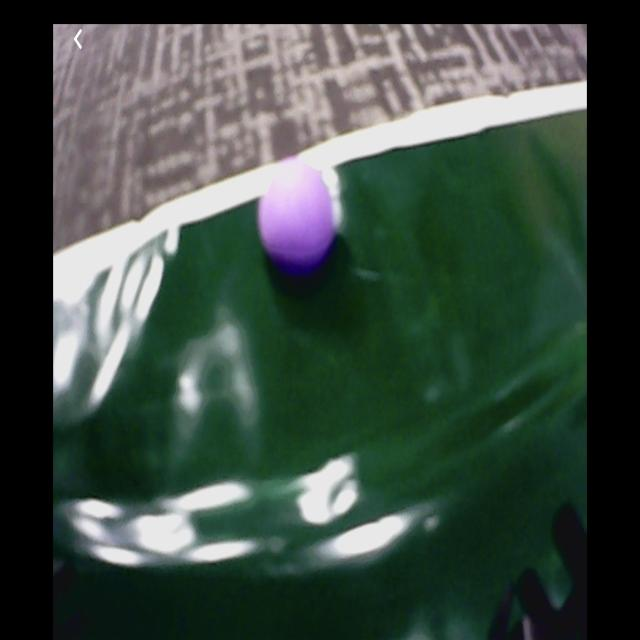ball: (260, 157, 337, 270)
